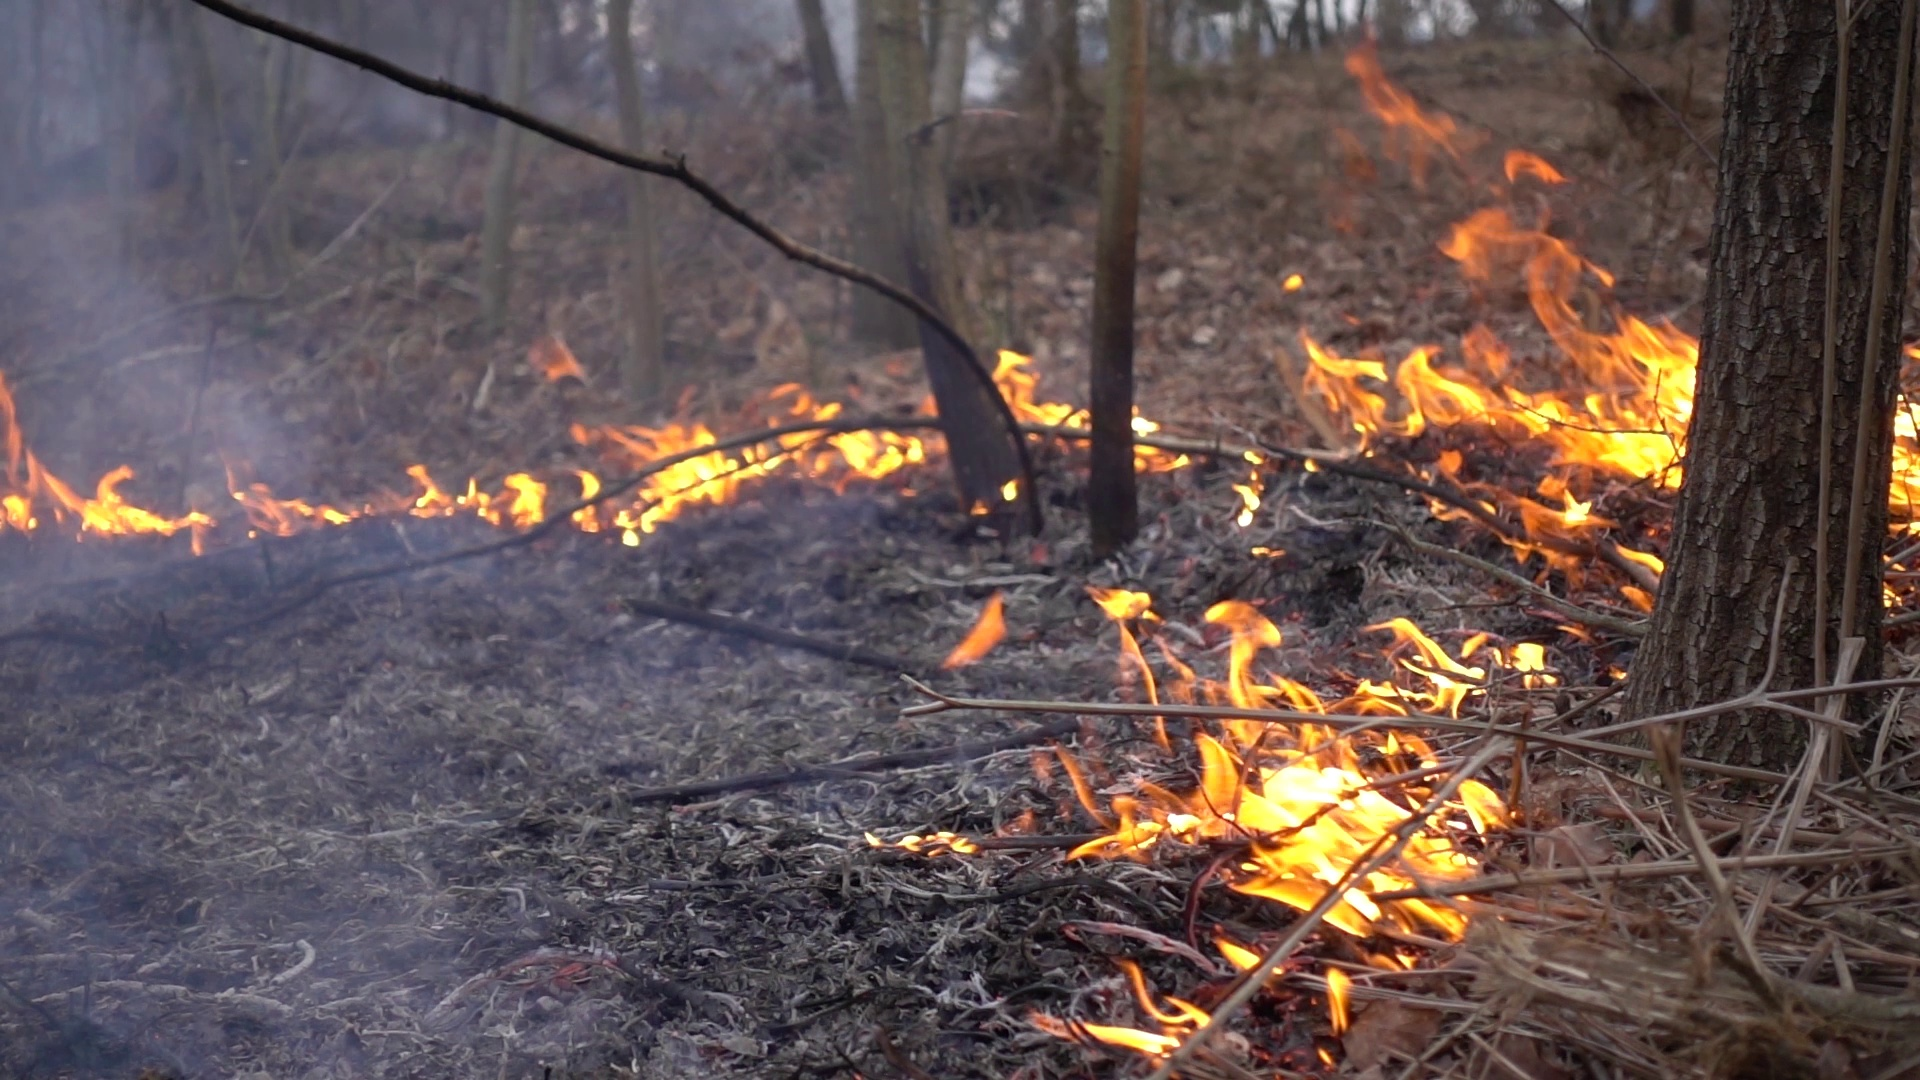fire: (986, 593, 1551, 1007), (1286, 236, 1691, 582), (563, 390, 926, 521), (7, 463, 359, 539), (400, 459, 549, 531), (996, 357, 1088, 436), (1890, 390, 1920, 529)
